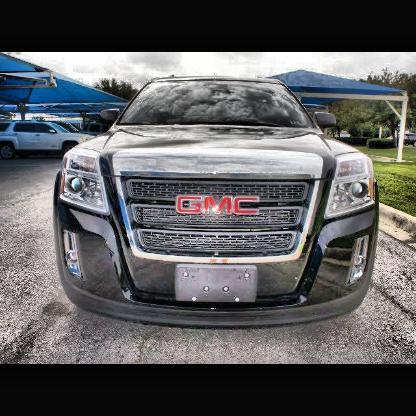GMC Terrain SUV 2012: (56, 77, 381, 331)
